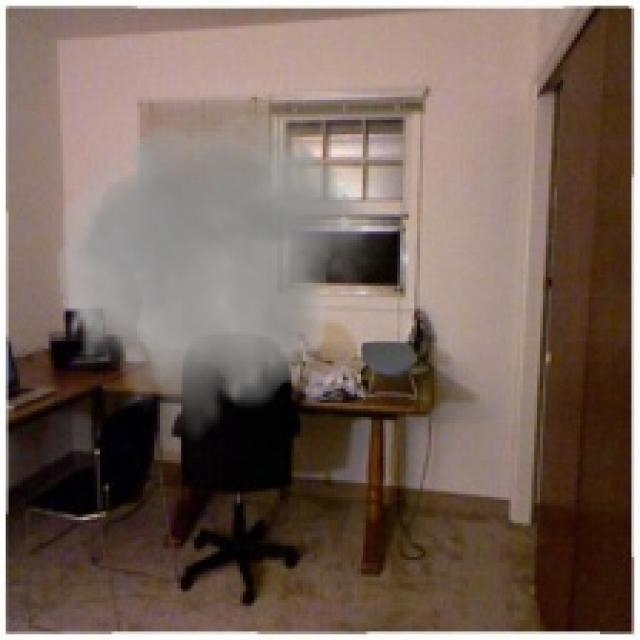Smoke: (48, 97, 394, 449)
